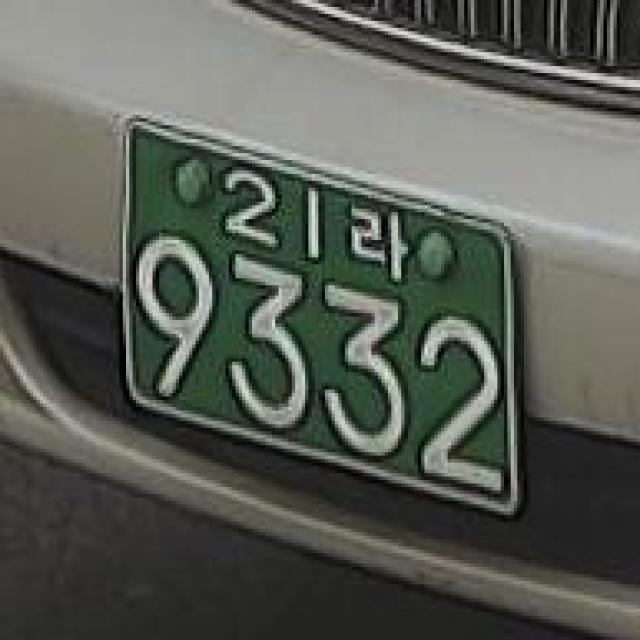illegal_plate: (99, 107, 542, 538)
